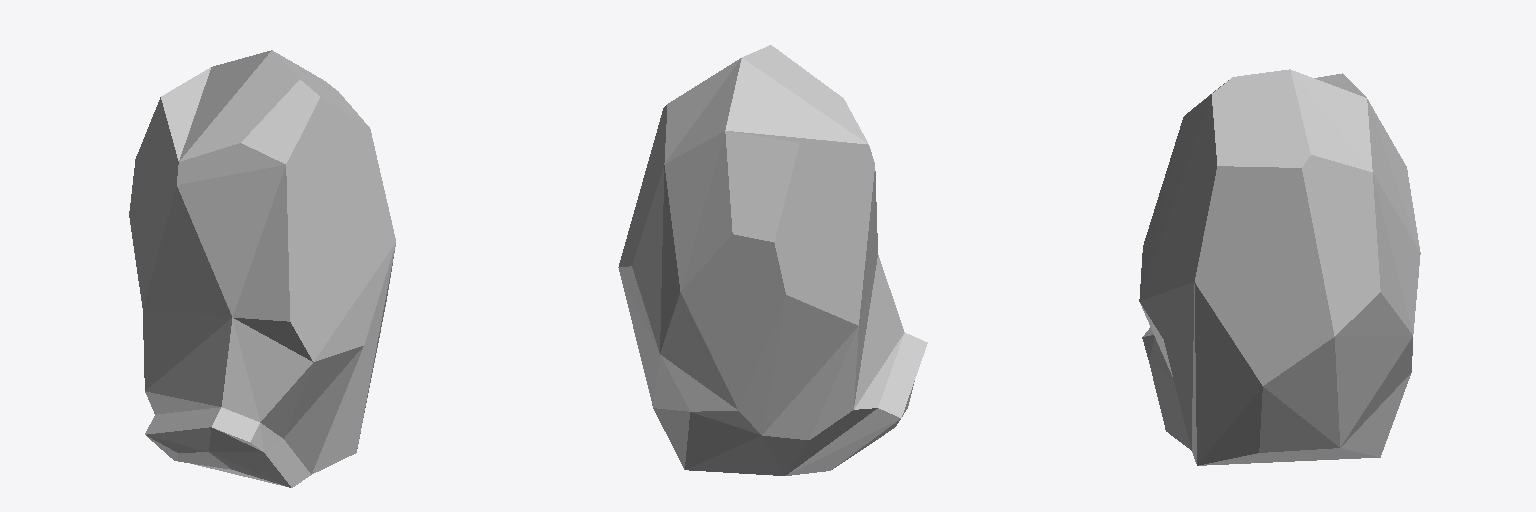
Rendered from Rock.04.obj.
The picture shows the model from 3 angles: view 1: azimuth 30°, elevation 25°; view 2: azimuth 150°, elevation 25°; view 3: azimuth 270°, elevation 25°; orthographic projection.
Parts seen in each view (by area): view 1: Icosphere_low; view 2: Icosphere_low; view 3: Icosphere_low.
Part boxes in pixels (left/top/right/bottom): Icosphere_low: left=129, top=50, right=395, bottom=487; Icosphere_low: left=618, top=45, right=927, bottom=475; Icosphere_low: left=1139, top=69, right=1420, bottom=465.
Bounding box in the file's own units: 4.64 × 7.14 × 4.62.